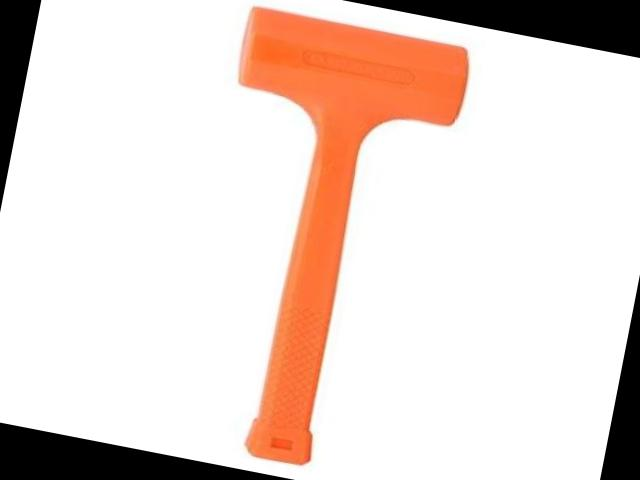hammer: (166, 5, 474, 480)
